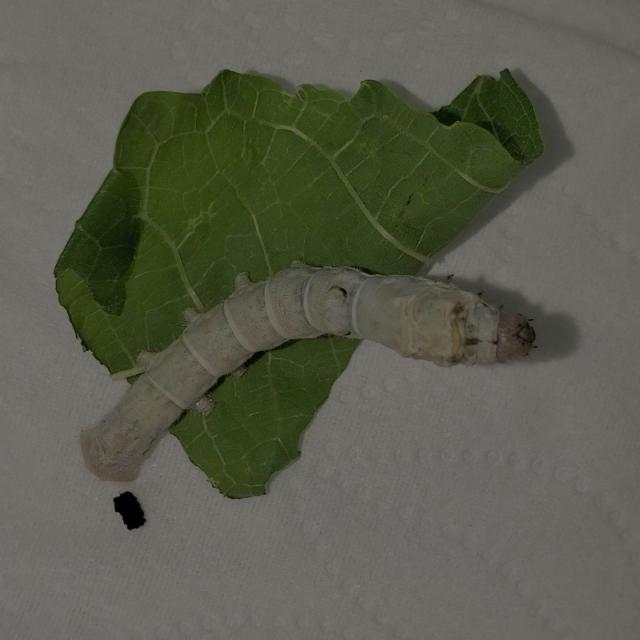Healthy: (61, 230, 573, 523)
